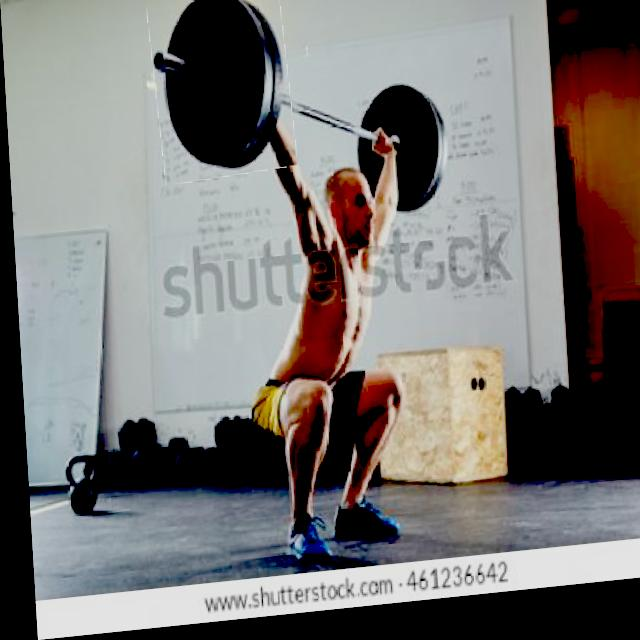barbell: (149, 1, 295, 189)
